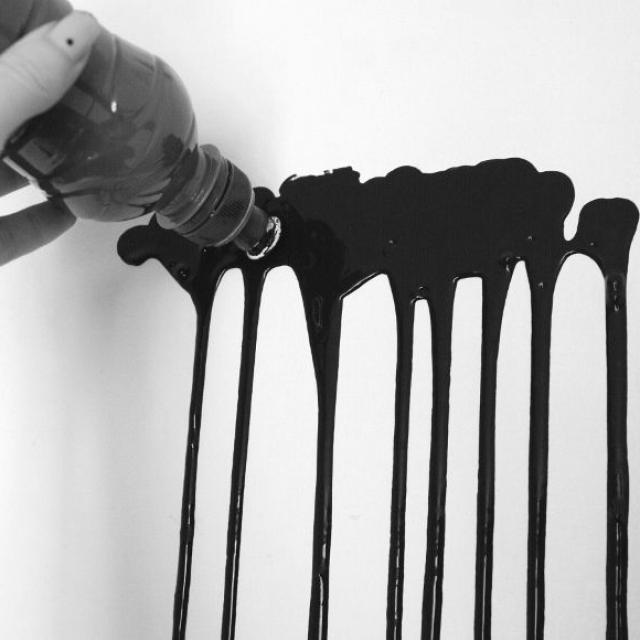paint drips: (153, 184, 640, 640), (104, 219, 154, 273)
